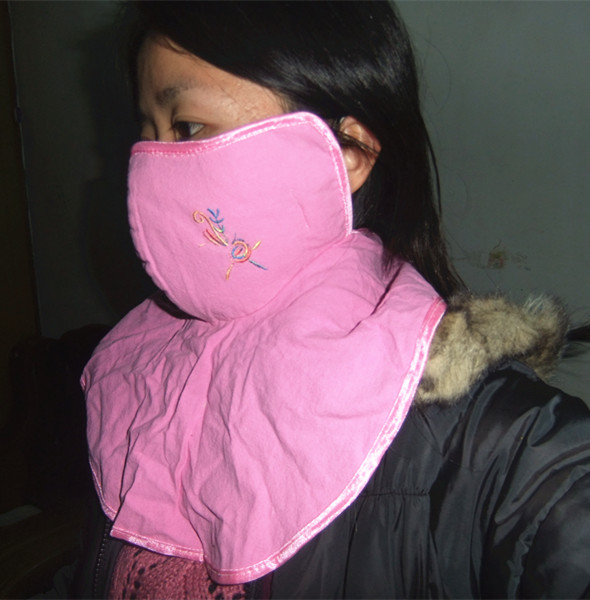face_mask: (121, 24, 323, 301)
